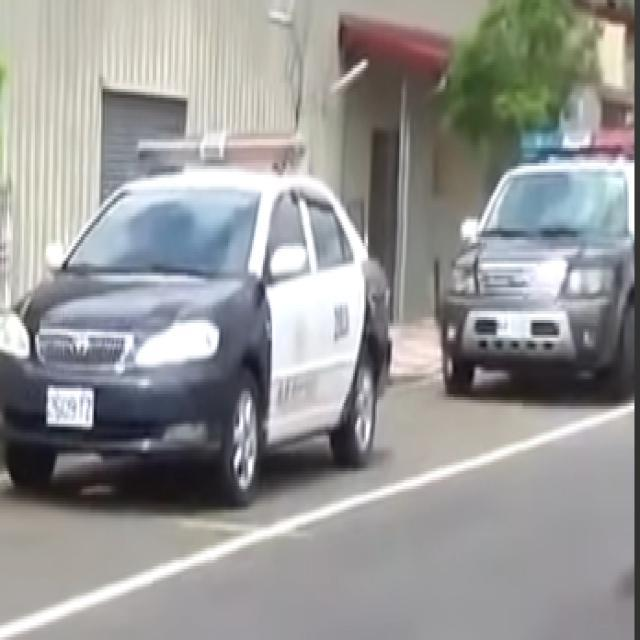police_car: (4, 102, 404, 524), (439, 92, 640, 414)
